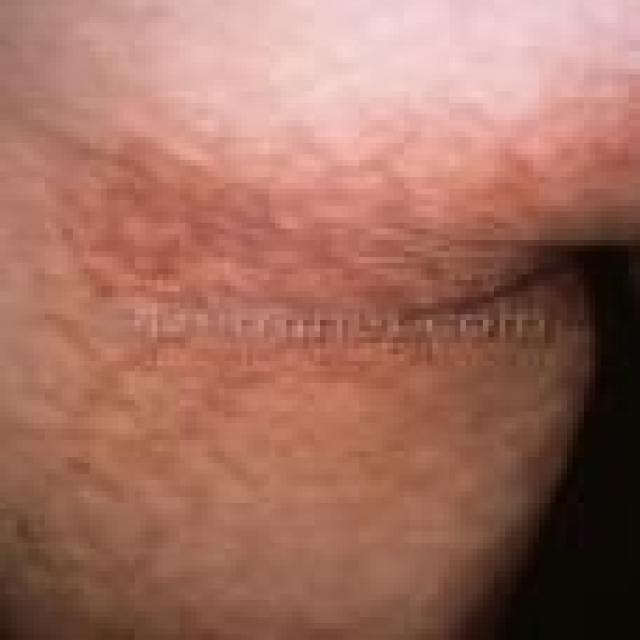Melasma: (50, 125, 578, 640)
